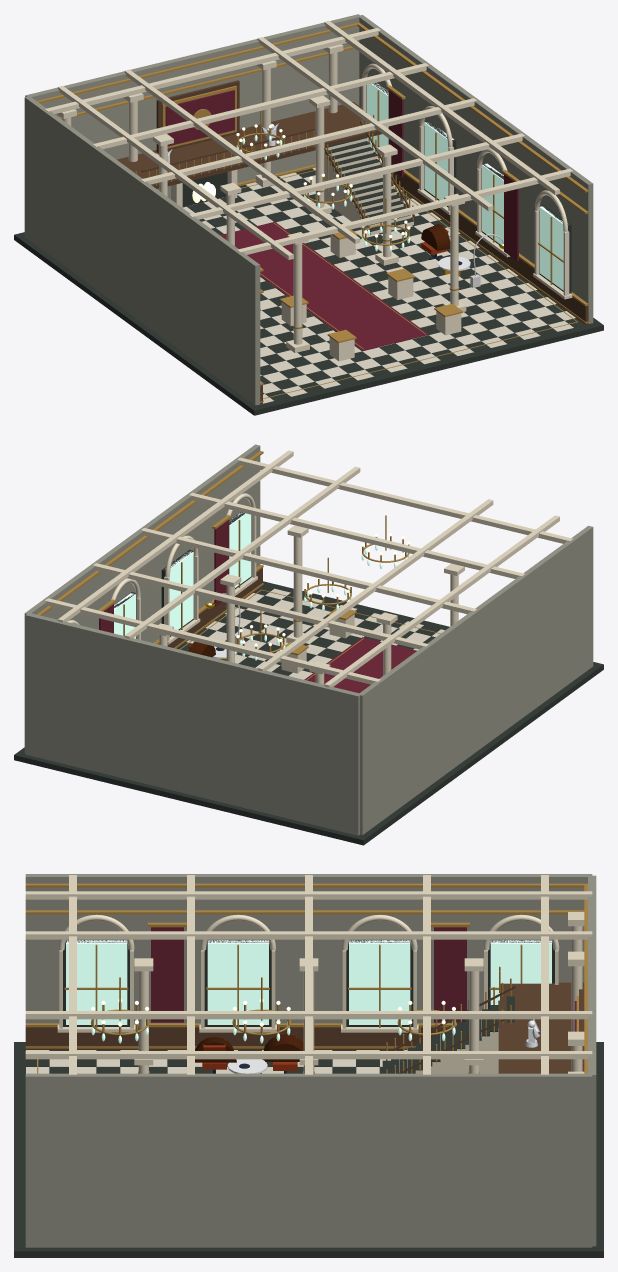
The model's file is castle.glb.
3 renders of one model, top to bottom at view 1: azimuth 30°, elevation 25°; view 2: azimuth 150°, elevation 25°; view 3: azimuth 270°, elevation 25°, orthographic. The views are drawn at different scales.
Visible parts, largest first — view 1: My World · castle; view 2: My World · castle; view 3: My World · castle.
Part boxes in pixels (box(x1,y1,x2,y2)): My World · castle: box(14, 14, 603, 415); My World · castle: box(14, 444, 603, 845); My World · castle: box(14, 874, 603, 1257).
Size of the model in its own units: 21 by 8.44 by 25.
